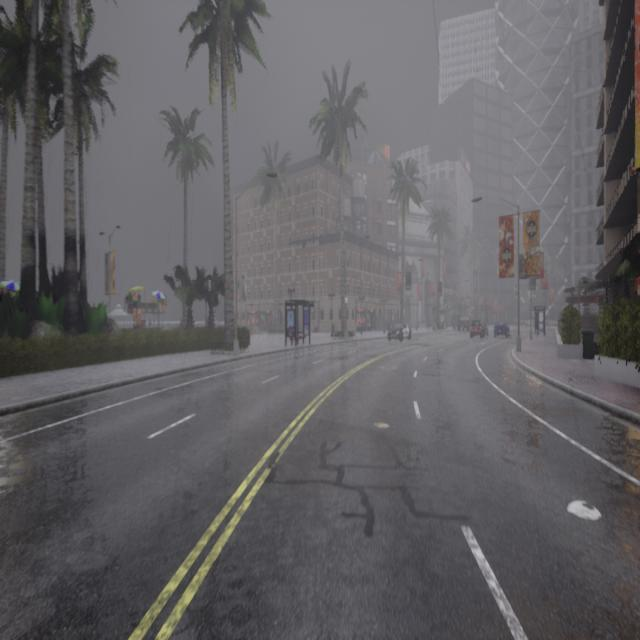9: (565, 294, 568, 306), (533, 286, 536, 298), (516, 289, 518, 299)
bien_hieu_lenh: (565, 302, 568, 306), (534, 294, 536, 298), (516, 294, 517, 298)
